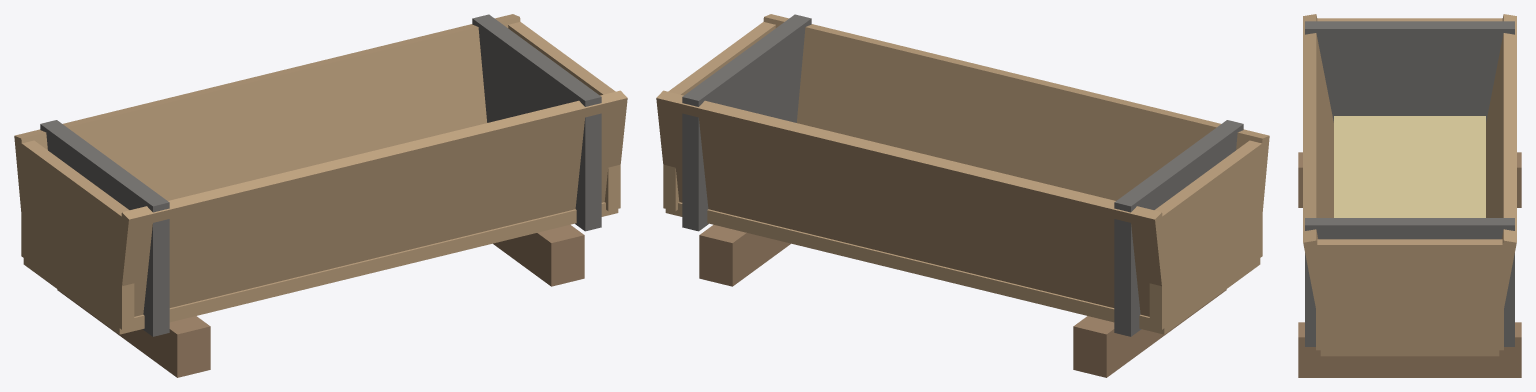
File: prop-feed-trough-sp1.fbx
3 views of the same model, side by side, from view 1: azimuth 30°, elevation 25°; view 2: azimuth 150°, elevation 25°; view 3: azimuth 270°, elevation 25° (orthographic). The views are drawn at different scales.
Parts seen in each view (by area): view 1: prop-feed-trough-sp1; view 2: prop-feed-trough-sp1; view 3: prop-feed-trough-sp1.
Part boxes in pixels (bbox=[...]): prop-feed-trough-sp1: bbox=[14, 14, 627, 377]; prop-feed-trough-sp1: bbox=[656, 14, 1269, 377]; prop-feed-trough-sp1: bbox=[1298, 14, 1521, 377].
Bounding box in the file's own units: 1.2 × 0.4 × 0.5.
